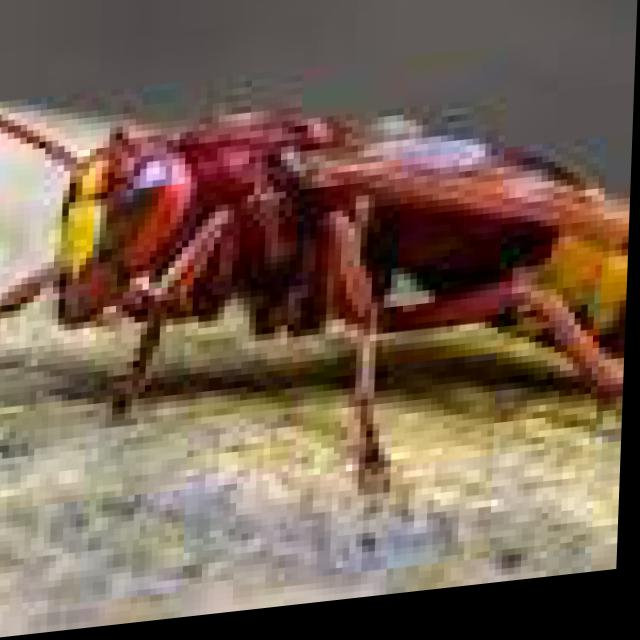Vespa Orientalis: (0, 0, 632, 563)
